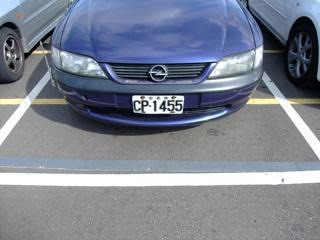plate: (131, 92, 185, 116)
